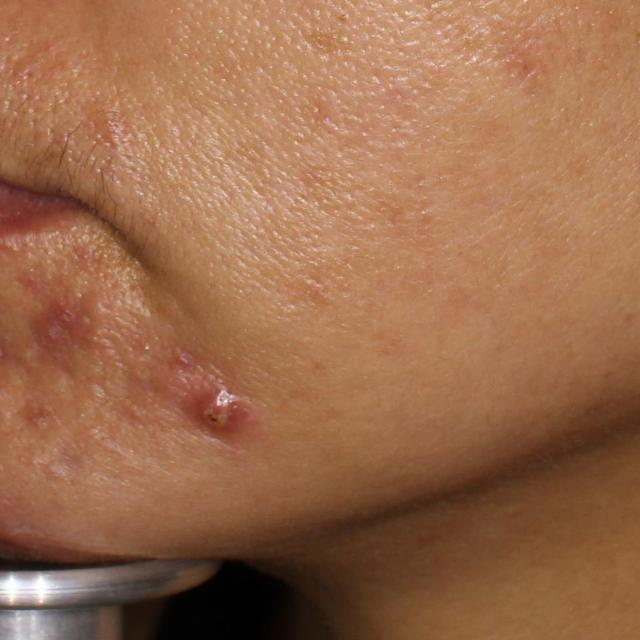blackhead: (339, 13, 347, 21)
